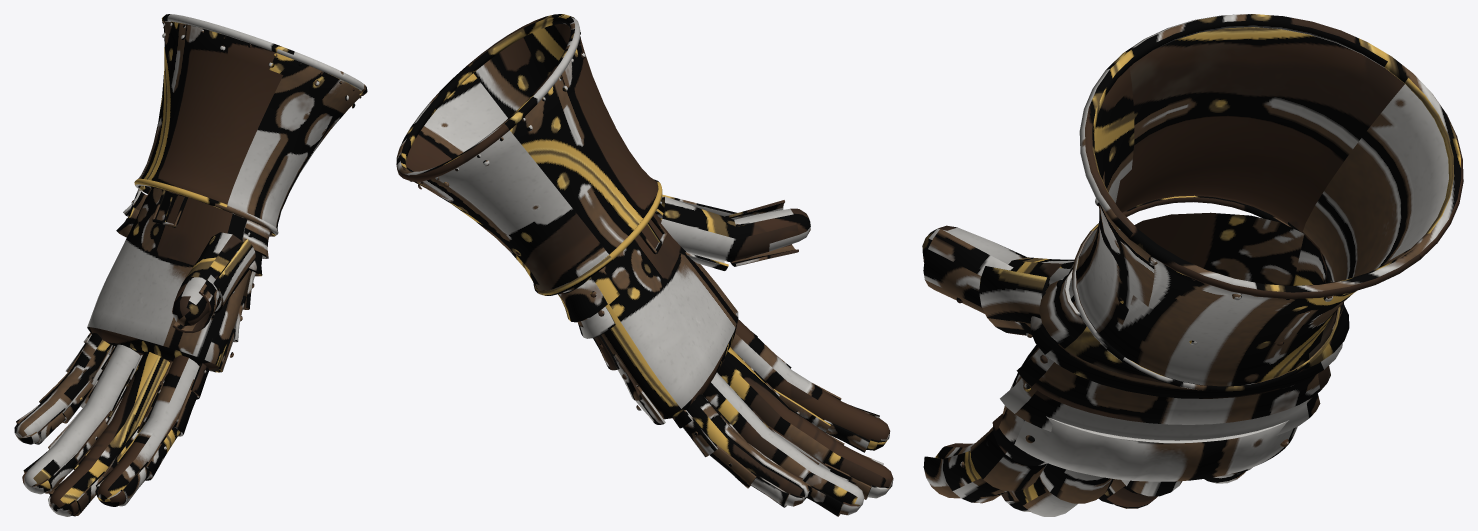
The model's file is SM_EagleGauntlets_R.fbx.
3 views of the same model, side by side, from view 1: azimuth 30°, elevation 25°; view 2: azimuth 150°, elevation 25°; view 3: azimuth 270°, elevation 25° (orthographic). The views are drawn at different scales.
Visible parts, largest first — view 1: SM_EagleGauntlets_R; view 2: SM_EagleGauntlets_R; view 3: SM_EagleGauntlets_R.
Part boxes in pixels (x1=…): SM_EagleGauntlets_R: x1=14, y1=14, x2=367, y2=516; SM_EagleGauntlets_R: x1=396, y1=14, x2=893, y2=516; SM_EagleGauntlets_R: x1=922, y1=14, x2=1463, y2=516.
Size of the model in its own units: 0.2577 by 0.2735 by 0.202.
